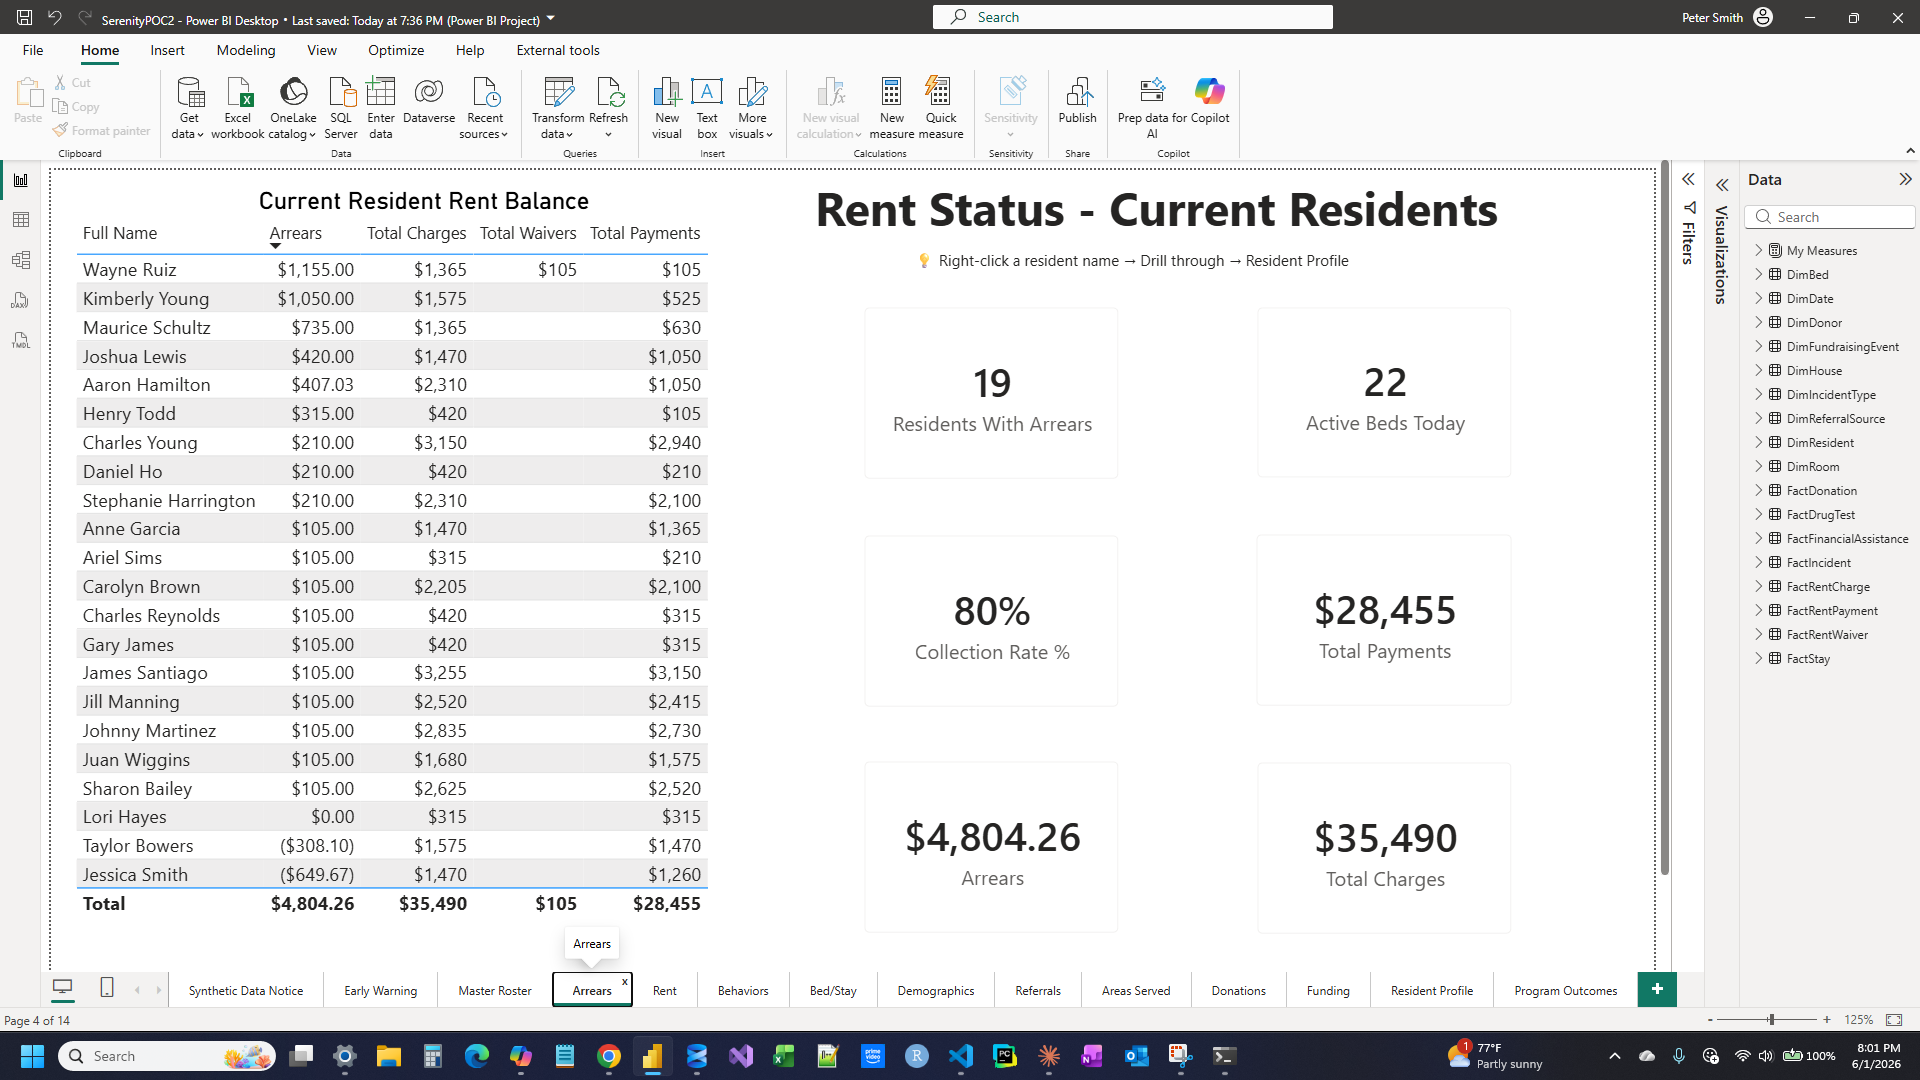

Layout of this report page (visuals, bound fields, positions):
{"tool":"powerbi","page":{"name":"Arrears","canvas":[1280,720],"ordinal":4},"visuals":[{"type":"tableEx","title":"Participant Rent Balance","fields":{"Values":["DimParticipant.Full Name","My Measures.Arrears","My Measures.Total Charges","My Measures.Total Waivers","My Measures.Total Payments"]},"box":[10.9,0,552.3,399.9],"z":0},{"type":"cardVisual","fields":{"Data":["My Measures.Total Charges"]},"box":[908.7,16.3,304.7,310.1],"z":1000},{"type":"cardVisual","fields":{"Data":["My Measures.Total Payments"]},"box":[552.3,0,356.4,297.9],"z":2000}]}

Visuals, with their boxes on the page's 1280x720 design canvas (x1, y1, x2, y2). These are canvas units, not pixel positions in the 1920x1080 screenshot, which may show the page scaled, cropped or inside an application window:
"Participant Rent Balance" tableEx: (11,0,563,400)
cardVisual - My Measures.Total Charges: (909,16,1213,326)
cardVisual - My Measures.Total Payments: (552,0,909,298)
